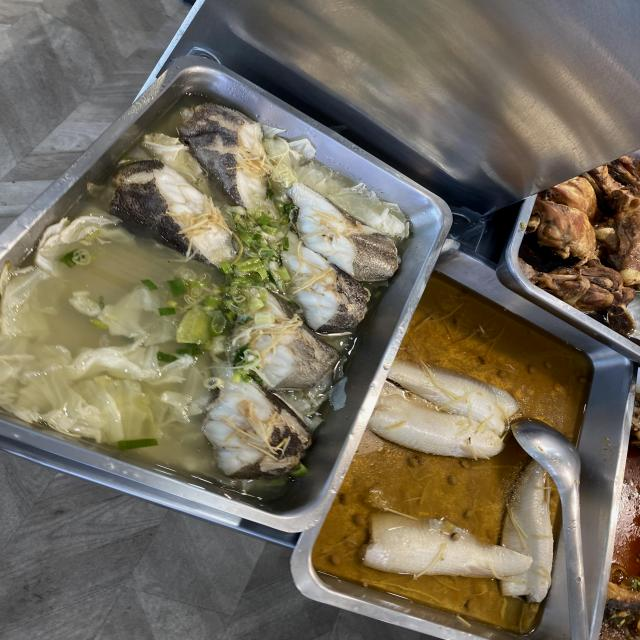Steamed fish: (127, 188, 356, 352)
